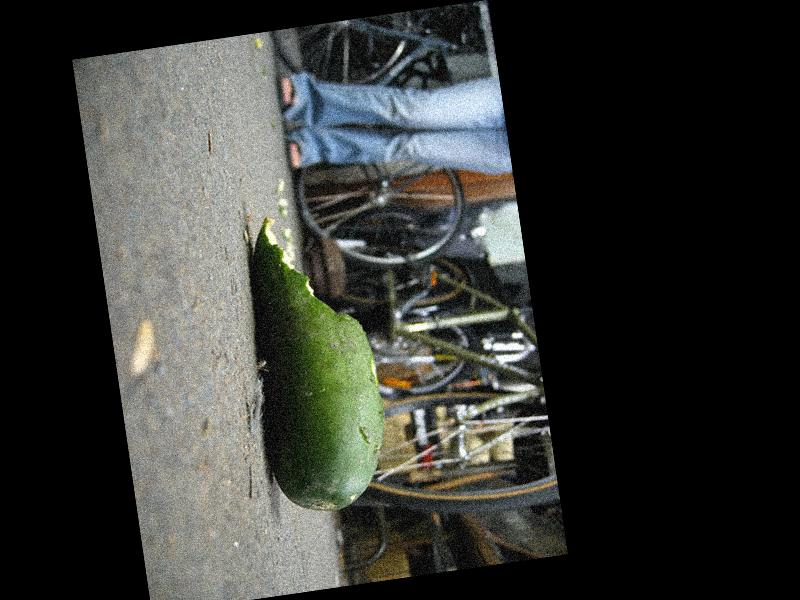Cucumber: (237, 201, 395, 517)
